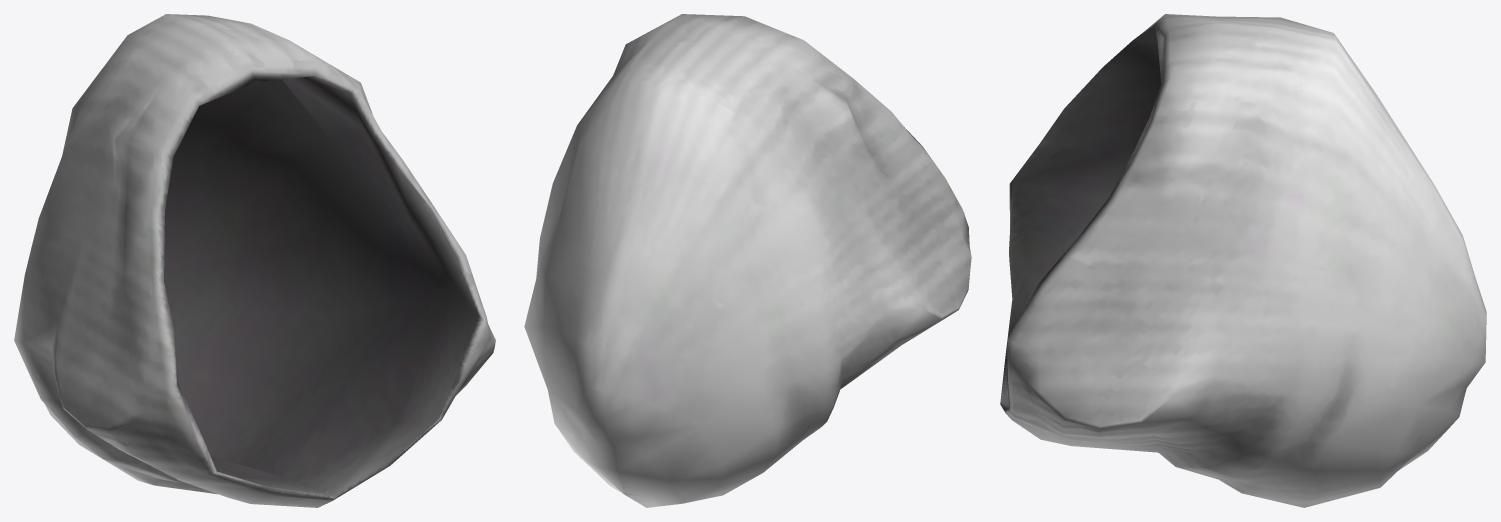
3 renders of one model, left to right at view 1: azimuth 30°, elevation 25°; view 2: azimuth 150°, elevation 25°; view 3: azimuth 270°, elevation 25°, orthographic. The views are drawn at different scales.
Parts seen in each view (by area): view 1: body0_model0_lod0_mesh0; view 2: body0_model0_lod0_mesh0; view 3: body0_model0_lod0_mesh0.
Boxes of the visible parts, box(x1,y1,x2,y2) form: body0_model0_lod0_mesh0: box(14, 14, 495, 507); body0_model0_lod0_mesh0: box(524, 14, 971, 507); body0_model0_lod0_mesh0: box(1000, 14, 1486, 507).
Size of the model in its own units: 8.7 by 9.82 by 9.13.
Materials: 1 (1 with a texture image).
